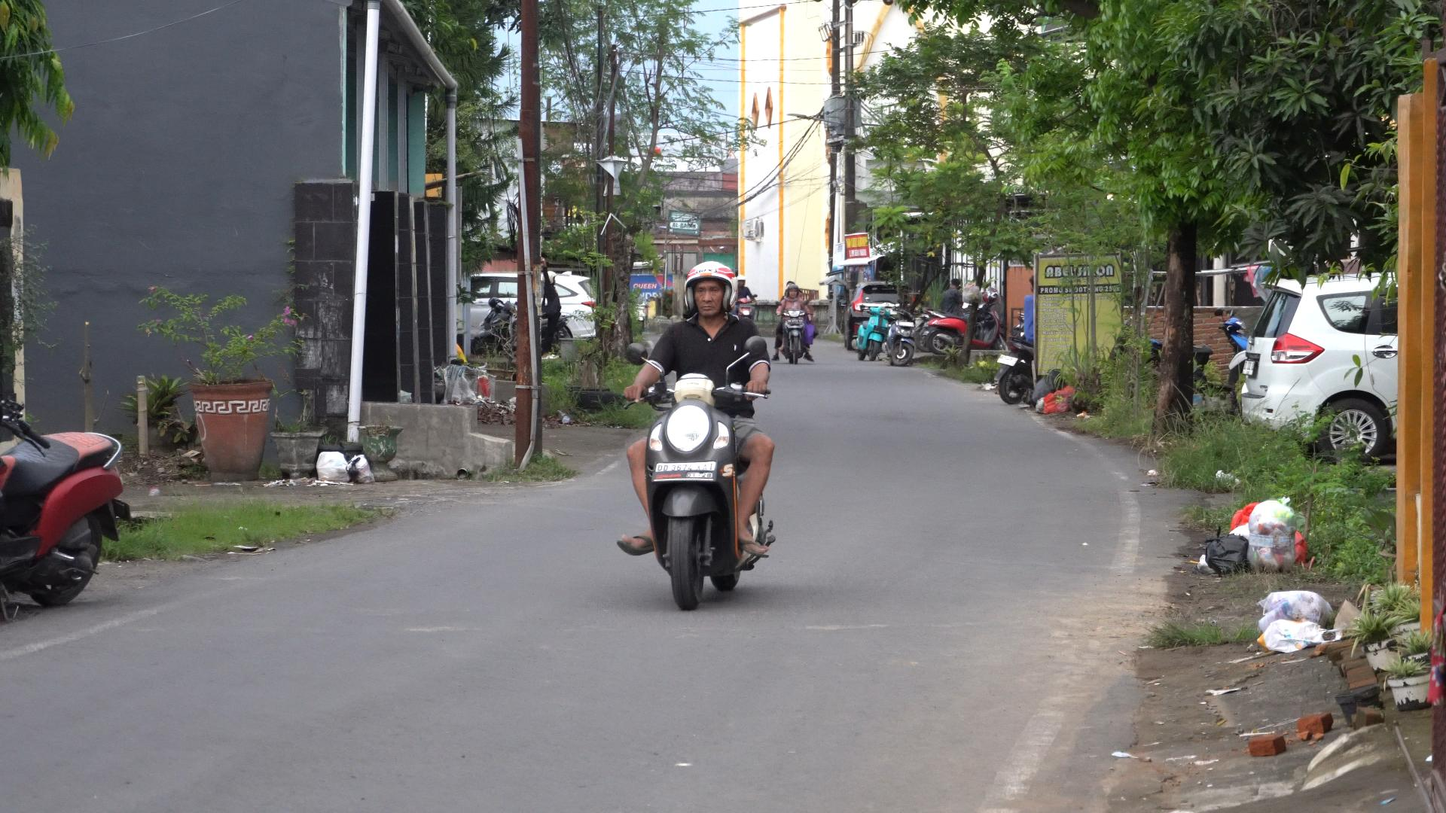number-plate: (651, 461, 718, 485)
